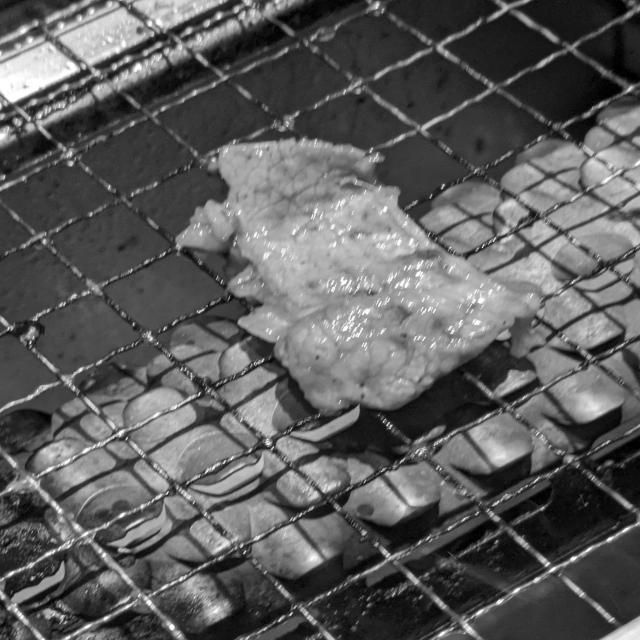OK cooked beef,: (158, 127, 569, 446)
